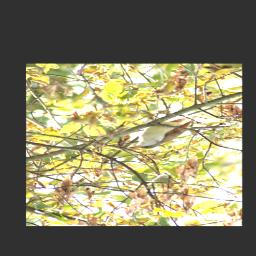Cuckoo: (126, 119, 203, 152)
